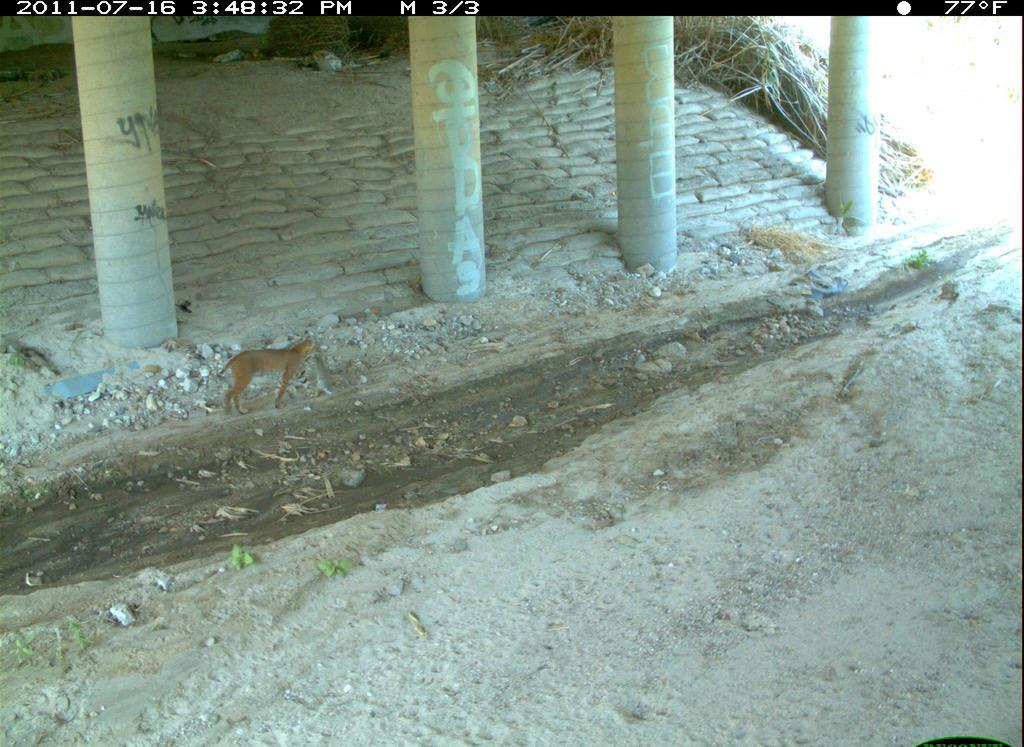bobcat: (427, 661, 649, 747)
rabbit: (621, 697, 675, 747)
